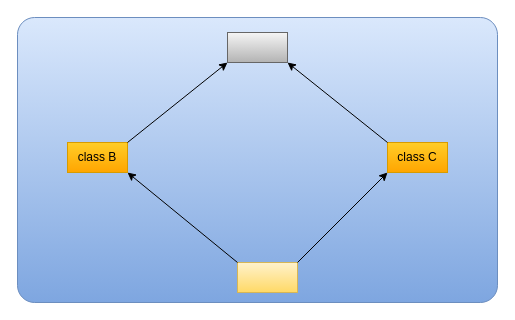
Image size: 515x320. Some labels were removed from this diagram. The shapes that lost their labels are listed below. From the top down, each one's centre as x and y in pixels, then its label:
the point at 257,47: class A
the point at 267,277: class D
